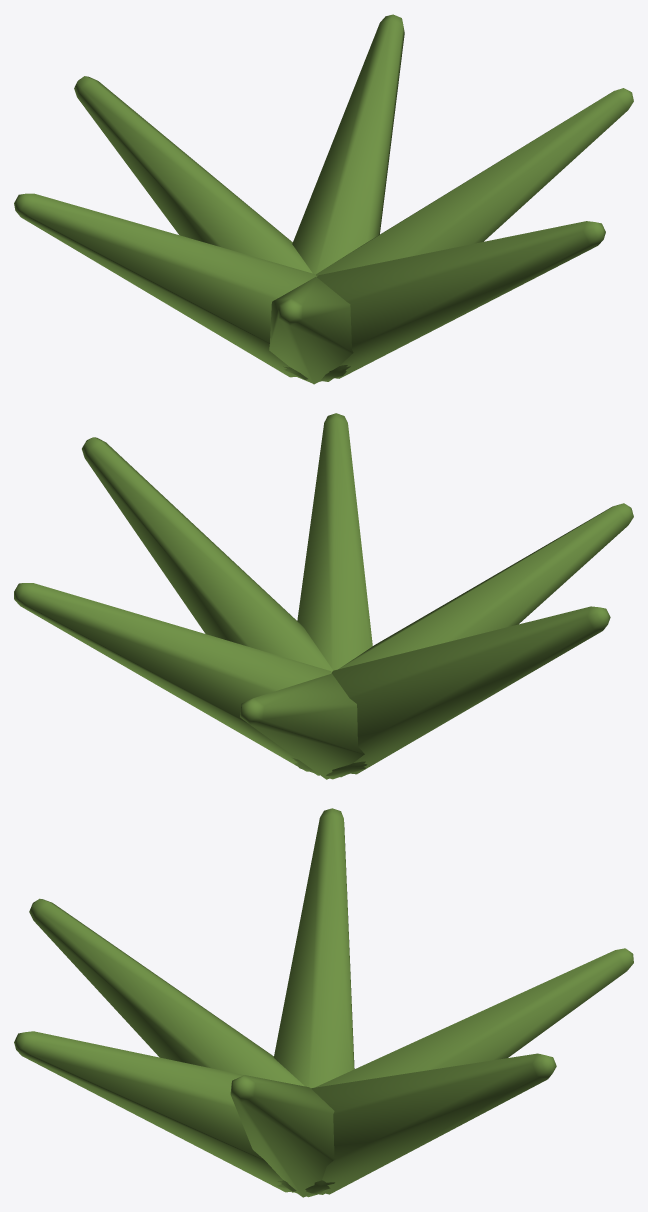
Rendered from prop_fernfalse_1c27.glb.
The picture shows the model from 3 angles, top to bottom: view 1: azimuth 30°, elevation 25°; view 2: azimuth 150°, elevation 25°; view 3: azimuth 270°, elevation 25°; orthographic projection.
Parts seen in each view (by area): view 1: prop_fernfalse_1c27; view 2: prop_fernfalse_1c27; view 3: prop_fernfalse_1c27.
Part boxes in pixels (bbox=[...]): prop_fernfalse_1c27: bbox=[14, 14, 633, 384]; prop_fernfalse_1c27: bbox=[14, 413, 633, 779]; prop_fernfalse_1c27: bbox=[14, 808, 633, 1197].
Size of the model in its own units: 0.637 by 0.2634 by 0.5932.
Materials: 1 (1 with a texture image).
